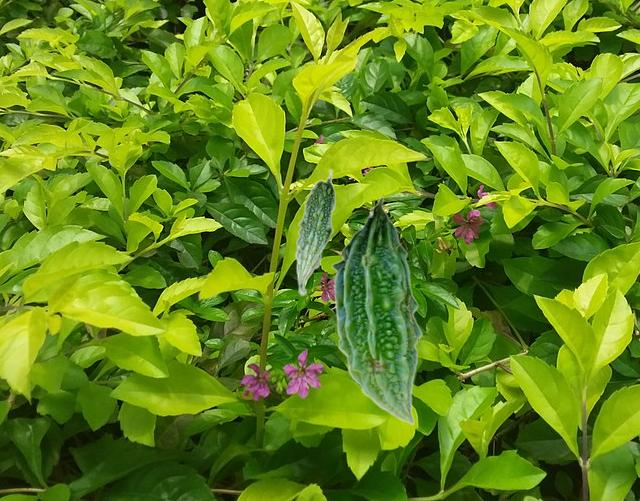ampalaya: (330, 195, 424, 426), (294, 168, 336, 296)
